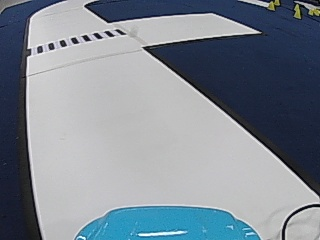CrossWalk: (33, 28, 125, 53)
